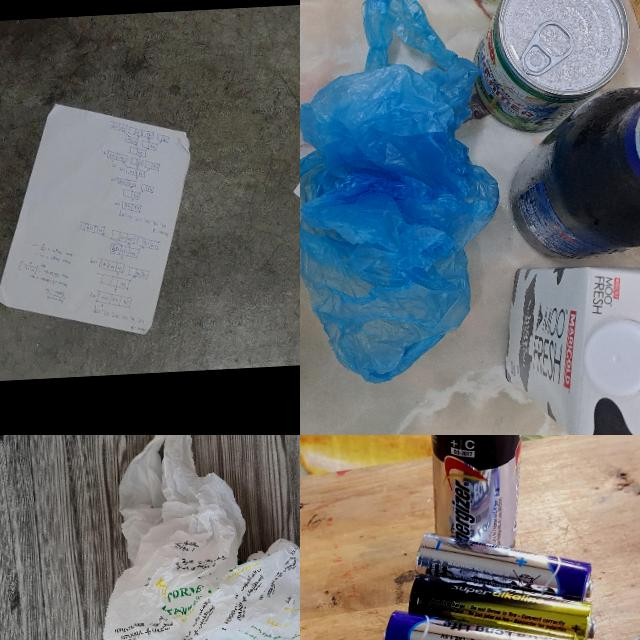aba de lata: (521, 18, 577, 78)
bateria: (415, 526, 594, 611), (408, 564, 597, 640), (430, 435, 532, 557), (381, 602, 577, 640)
caixinha: (499, 255, 640, 435)
garrafa de vidro: (505, 70, 640, 264)
lata: (471, 0, 634, 136)
papel: (0, 96, 198, 341)
sacola plástica: (300, 0, 512, 390), (87, 435, 300, 640)
tampa plástica: (578, 317, 640, 400)
